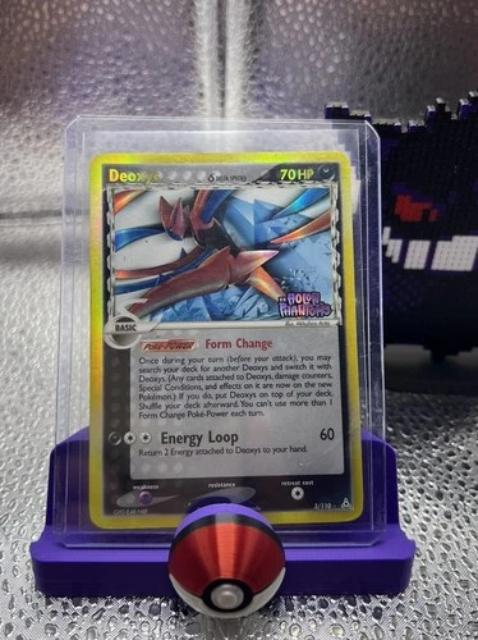Card: (87, 147, 367, 532)
Name: (102, 163, 169, 191)
